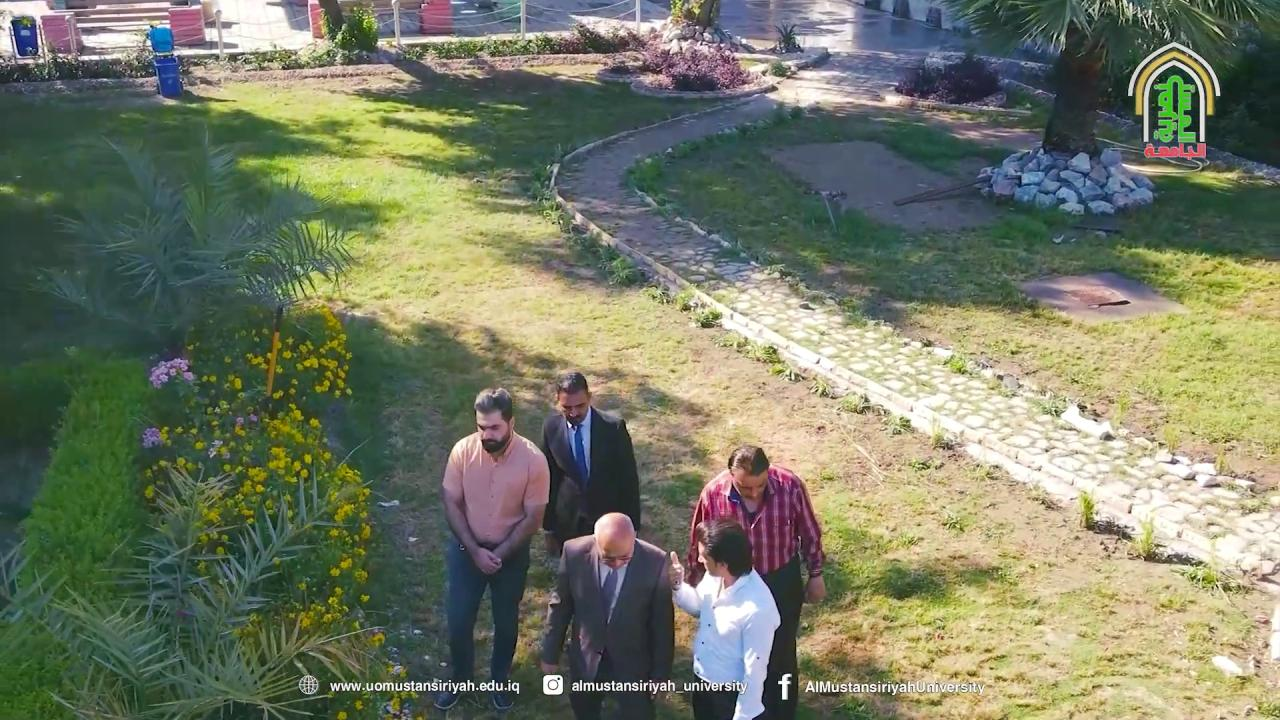person: (685, 444, 827, 718), (432, 387, 550, 711), (539, 371, 641, 678), (539, 512, 676, 719), (667, 516, 782, 719)
tree: (32, 107, 370, 397), (29, 452, 393, 718), (928, 0, 1279, 154), (227, 212, 360, 399), (667, 0, 721, 31), (772, 20, 803, 54)
